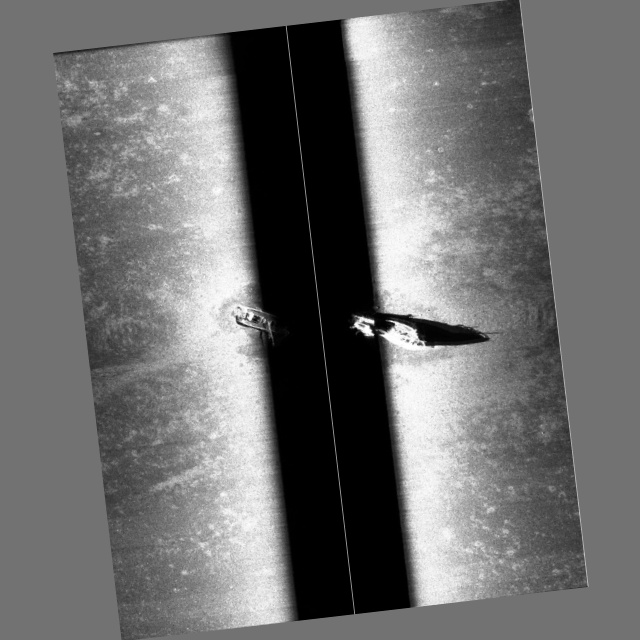Shipwreck: (233, 283, 427, 371)
